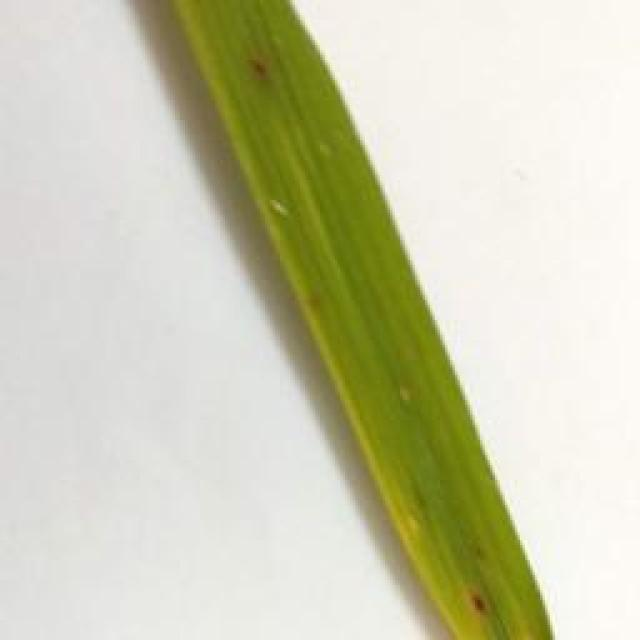Bacterial_Blight: (303, 128, 350, 174), (259, 191, 303, 229), (388, 382, 423, 413)
Brown_Spot: (294, 278, 342, 336), (453, 582, 508, 628), (237, 52, 279, 98)
